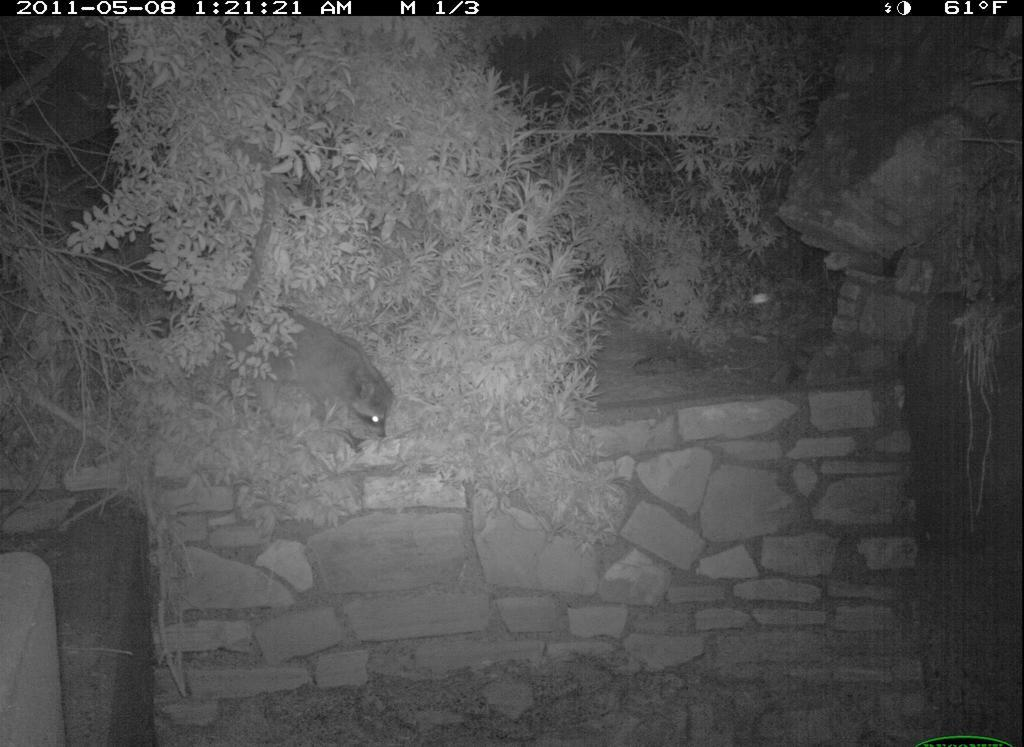raccoon: (221, 287, 404, 454)
